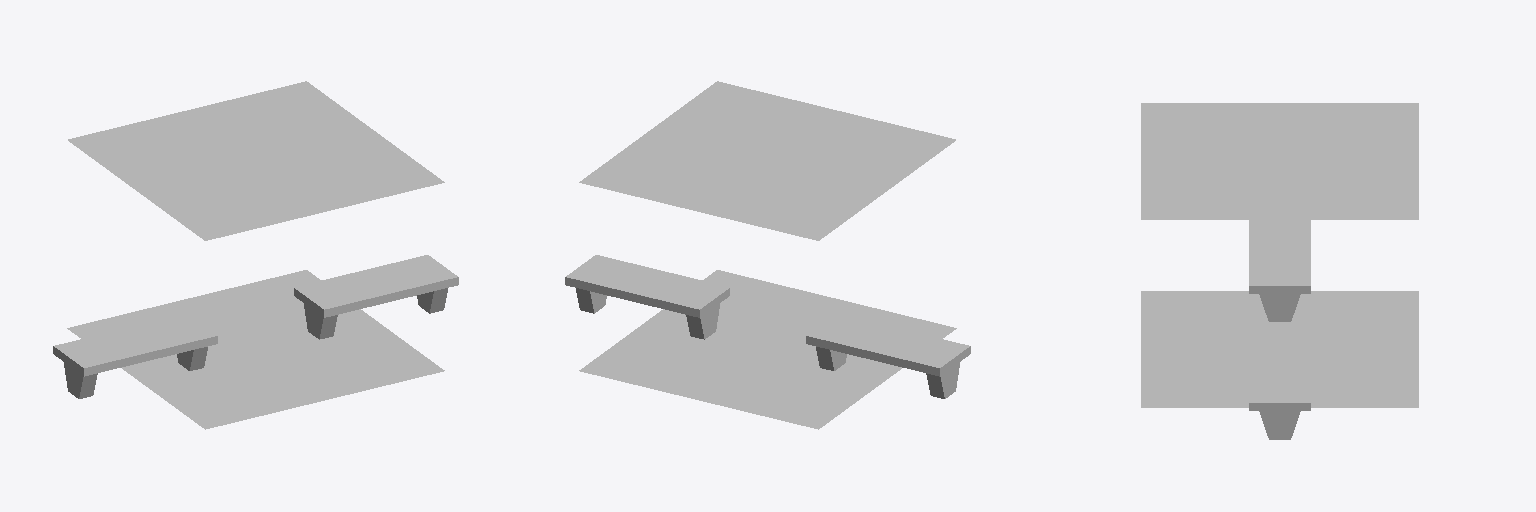
Rendered from worldtile3.obj.
The picture shows the model from 3 angles: view 1: azimuth 30°, elevation 25°; view 2: azimuth 150°, elevation 25°; view 3: azimuth 270°, elevation 25°; orthographic projection.
Parts seen in each view (by area): view 1: objobjDuplicate03; view 2: objobjDuplicate03; view 3: objobjDuplicate03.
Part boxes in pixels (bbox=[...]): objobjDuplicate03: bbox=[53, 81, 458, 429]; objobjDuplicate03: bbox=[565, 81, 970, 429]; objobjDuplicate03: bbox=[1141, 103, 1418, 439].
Bounding box in the file's own units: 15.6 × 7.55 × 10.